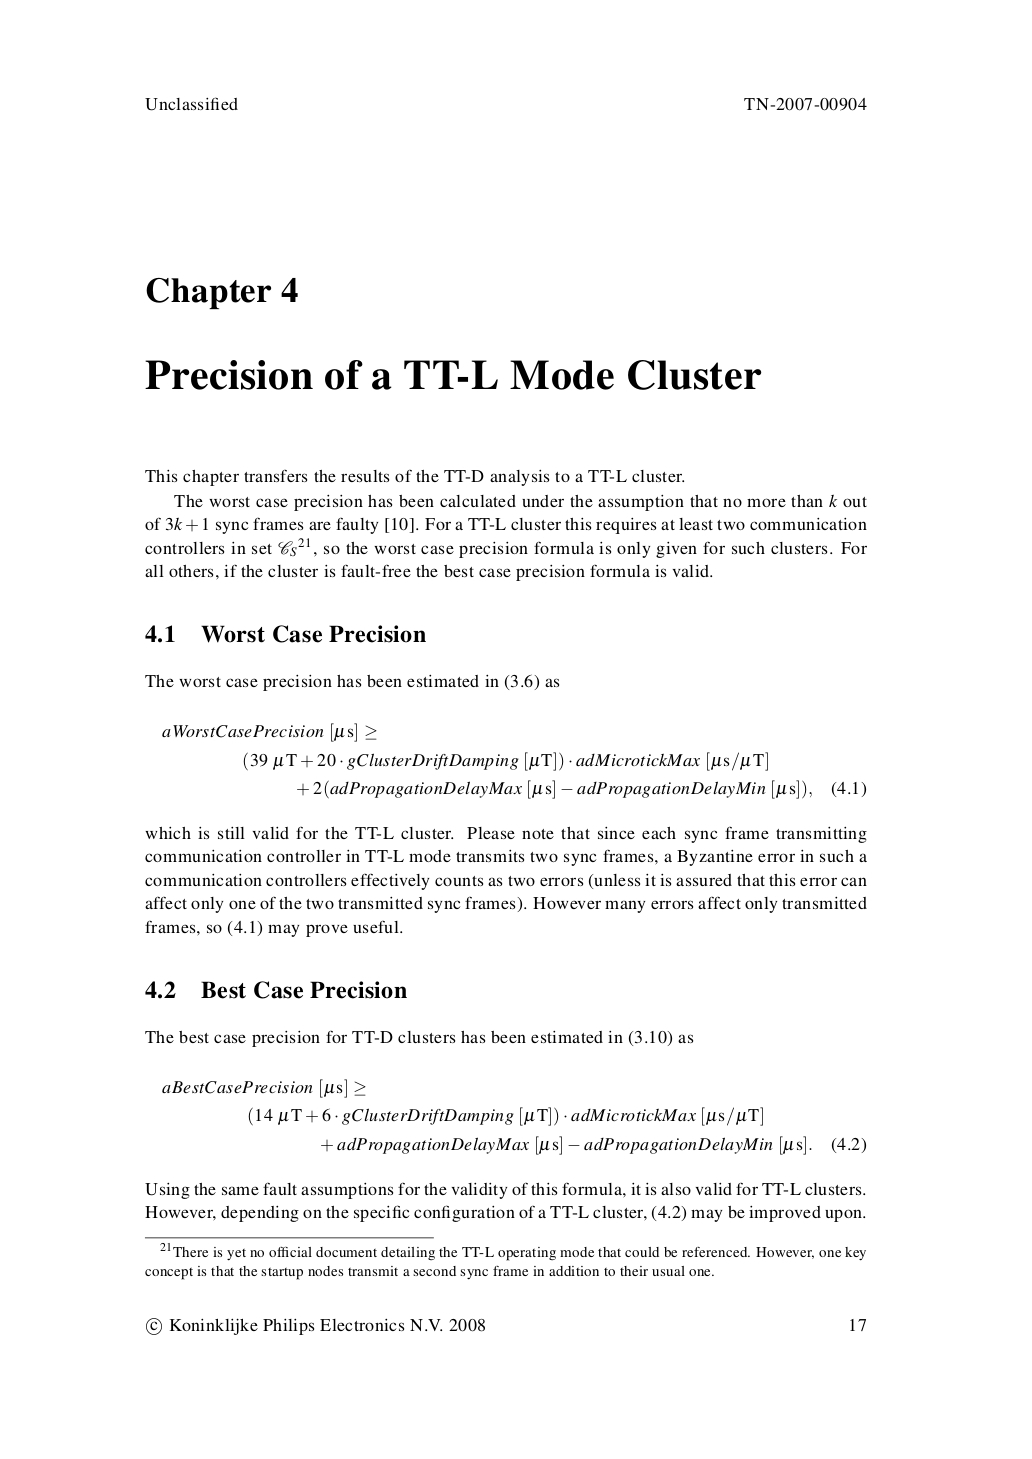formula: (297, 778, 866, 799), (321, 1135, 866, 1155), (248, 1105, 762, 1126), (243, 751, 767, 771), (162, 722, 376, 742), (162, 1078, 365, 1098)
